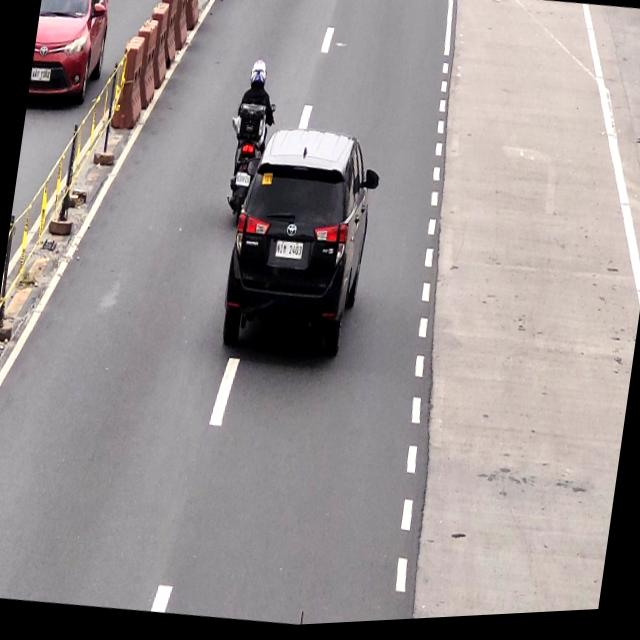Car: (218, 125, 378, 367)
License-Plate: (275, 239, 304, 266), (233, 171, 252, 191)
Motorcycle: (222, 54, 278, 221)
